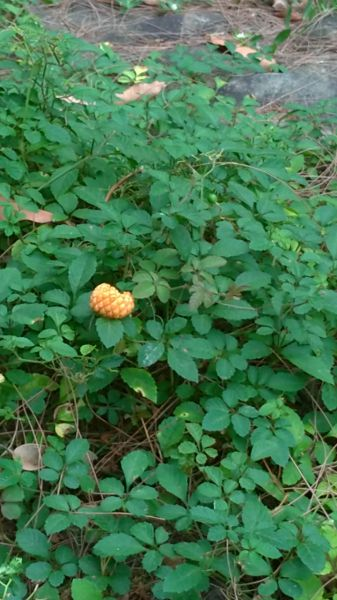eggs: (88, 279, 138, 323)
